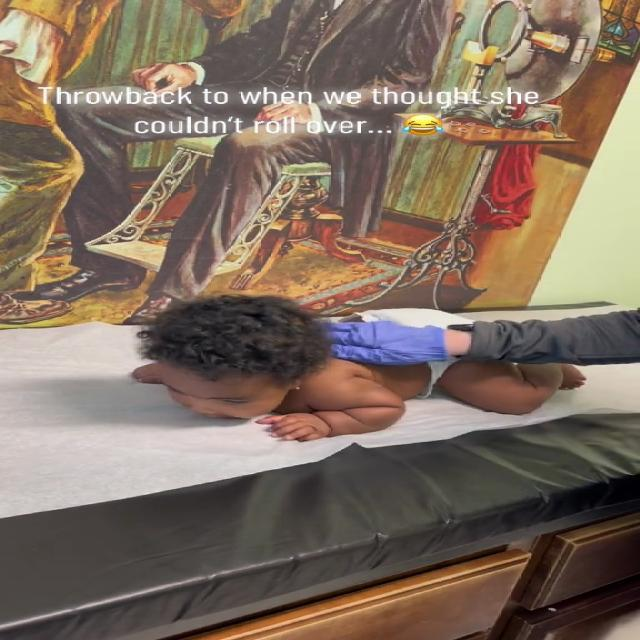baby: (130, 290, 600, 440)
